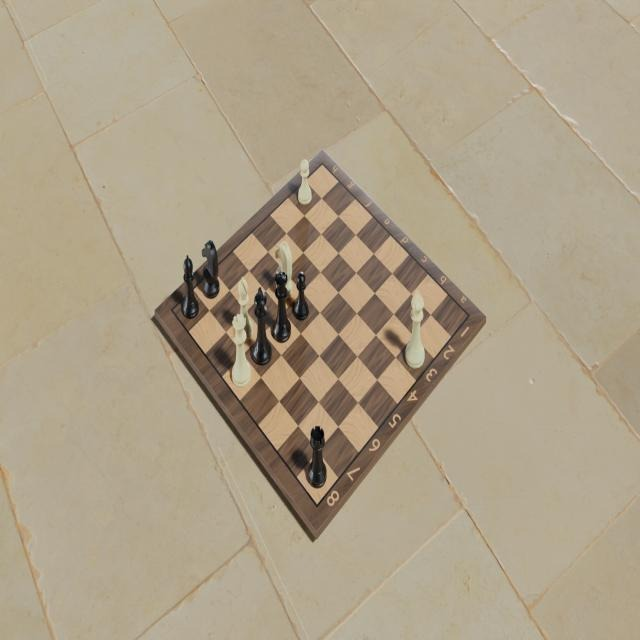black-bishop: (181, 253, 201, 322)
black-king: (251, 285, 273, 367)
black-knight: (203, 238, 221, 300)
black-pawn: (292, 270, 312, 324)
black-queen: (272, 270, 292, 344)
black-rook: (307, 424, 327, 489)
white-bishop: (233, 276, 252, 340)
white-king: (403, 289, 425, 373)
white-knight: (273, 238, 294, 302)
white-pawn: (295, 159, 313, 208)
white-queen: (230, 310, 251, 389)
